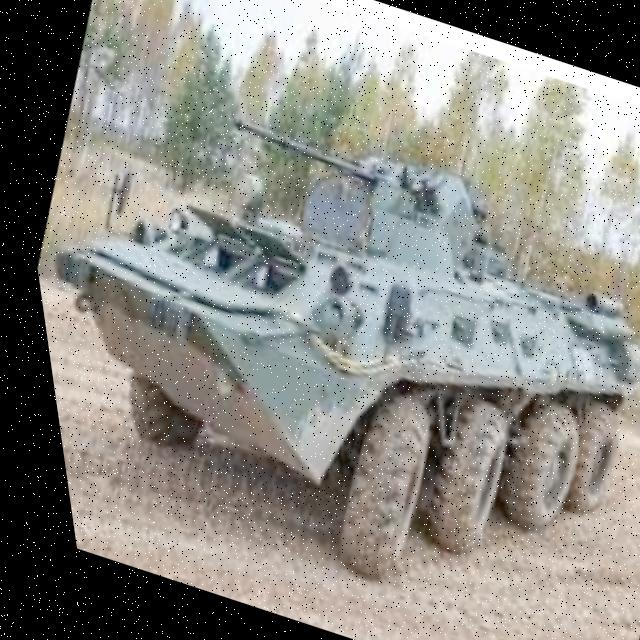MIL_APC: (6, 50, 640, 640)
